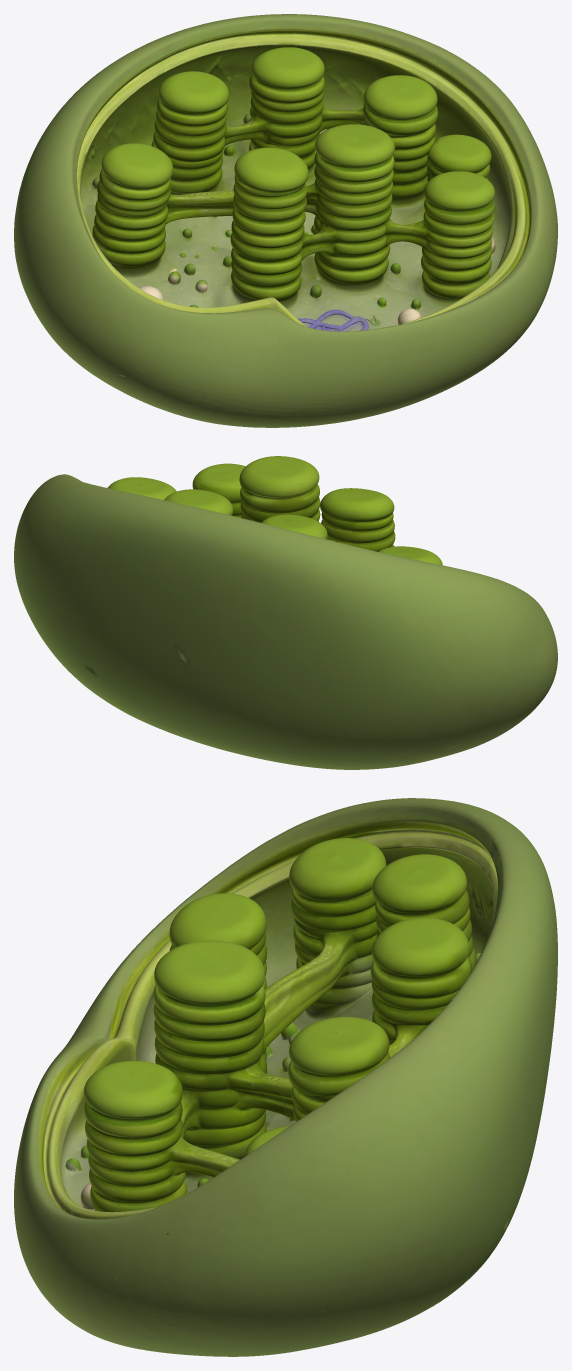
Rendered from chloroplast.glb.
3 views of the same model, one above another, from view 1: azimuth 30°, elevation 25°; view 2: azimuth 150°, elevation 25°; view 3: azimuth 270°, elevation 25° (orthographic). The views are drawn at different scales.
Visible parts, largest first — view 1: node_0; view 2: node_0; view 3: node_0.
Part boxes in pixels (<box>): node_0: <box>14,14,557,427</box>; node_0: <box>14,456,557,769</box>; node_0: <box>14,798,557,1356</box>.
Bounding box in the file's own units: 1.2 × 0.6594 × 0.7992.
Materials: 1 (1 with a texture image).
